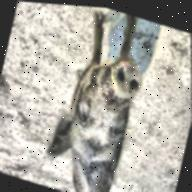boar: (30, 2, 185, 192)
